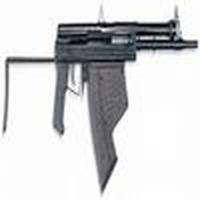gun: (2, 21, 199, 134)
